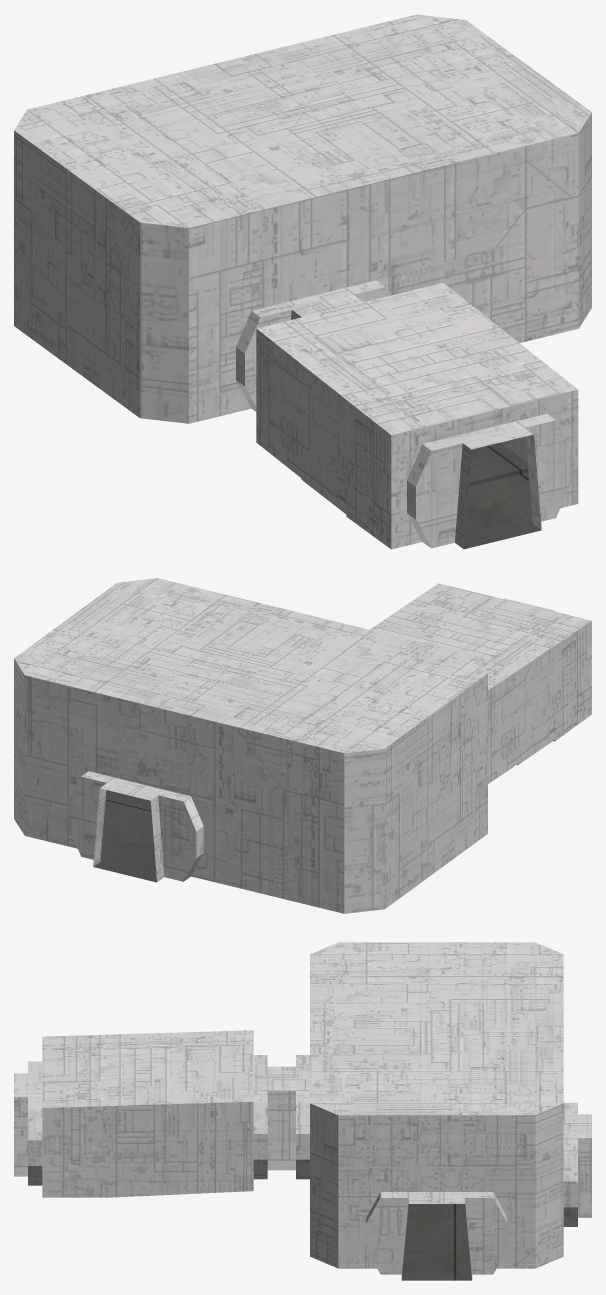
Rendered from thm_spc_star_destroyer_s01_r7_security_mesh_r7.fbx.
3 views of the same model, one above another, from view 1: azimuth 30°, elevation 25°; view 2: azimuth 150°, elevation 25°; view 3: azimuth 270°, elevation 25° (orthographic). The views are drawn at different scales.
Parts seen in each view (by area): view 1: mesh_node; view 2: mesh_node; view 3: mesh_node.
Part boxes in pixels (box(x1,y1,x2,y2)): mesh_node: box(14, 14, 591, 549); mesh_node: box(14, 578, 591, 913); mesh_node: box(14, 942, 591, 1280).
Size of the model in its own units: 15.5 by 6.25 by 20.5.
Materials: 2 (2 with a texture image).
